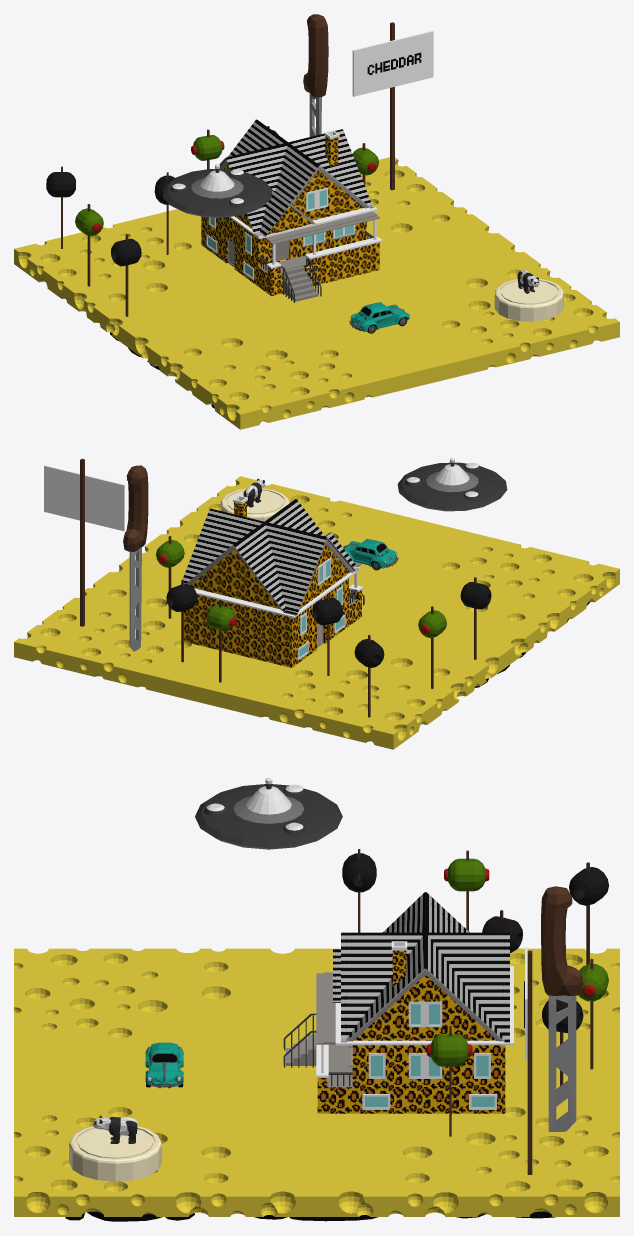
3 views of the same model, one above another, from view 1: azimuth 30°, elevation 25°; view 2: azimuth 150°, elevation 25°; view 3: azimuth 270°, elevation 25° (orthographic). The views are drawn at different scales.
Visible parts, largest first — view 1: Cube.022, Cube.637, Cube.023, OBJRANDOM_UFO, Cylinder.016, Cube.024, VEHICLES_VOLKSWAGEN, Sphere.017, Sphere.018, Sphere.016, Sphere.022, Sphere.019; view 2: Cube.022, Cube.637, Cube.023, OBJRANDOM_UFO, Cube.024, Cylinder.016, VEHICLES_VOLKSWAGEN, Sphere.017, Sphere.020, Sphere.021, Sphere.022, Sphere.016 (+2 smaller); view 3: Cube.022, Cube.637, OBJRANDOM_UFO, Cube.024, Cylinder.016, VEHICLES_VOLKSWAGEN, Cube.023, Sphere.019, Sphere.016, Sphere.018, Sphere.017, Sphere.022 (+4 smaller).
Part boxes in pixels (box(x1,y1,x2,y2)): Cube.022: box(14, 157, 619, 429); Cube.637: box(201, 119, 382, 302); Cube.023: box(352, 22, 433, 190); OBJRANDOM_UFO: box(162, 164, 272, 217); Cylinder.016: box(494, 278, 563, 321); Cube.024: box(303, 14, 328, 136); VEHICLES_VOLKSWAGEN: box(349, 302, 409, 333); Sphere.017: box(111, 234, 141, 316); Sphere.018: box(75, 204, 103, 286); Sphere.016: box(46, 166, 75, 248); Sphere.022: box(191, 129, 224, 169); Sphere.019: box(352, 143, 378, 186); Cube.022: box(14, 476, 619, 749); Cube.637: box(179, 495, 364, 667); Cube.023: box(44, 458, 124, 626); OBJRANDOM_UFO: box(397, 458, 507, 511); Cube.024: box(123, 465, 148, 651); Cylinder.016: box(220, 488, 289, 521); VEHICLES_VOLKSWAGEN: box(343, 539, 398, 570); Sphere.017: box(460, 577, 491, 659); Sphere.020: box(312, 593, 342, 675); Sphere.021: box(166, 579, 197, 662); Sphere.022: box(205, 600, 236, 682); Sphere.016: box(354, 635, 384, 717); Cube.022: box(14, 948, 619, 1216); Cube.637: box(283, 892, 513, 1113); OBJRANDOM_UFO: box(195, 778, 342, 849); Cube.024: box(541, 886, 583, 1132); Cylinder.016: box(69, 1126, 161, 1181); VEHICLES_VOLKSWAGEN: box(145, 1042, 183, 1088); Cube.023: box(524, 947, 532, 1174); Sphere.019: box(426, 1026, 472, 1136); Sphere.016: box(569, 862, 608, 964); Sphere.018: box(444, 850, 489, 931); Sphere.017: box(342, 849, 376, 932); Sphere.022: box(578, 958, 608, 1069).
Bounding box in the file's own units: 3917 × 1980 × 4000.
31 materials, 4 textured.
